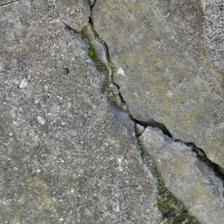Crack: (42, 3, 179, 176)
